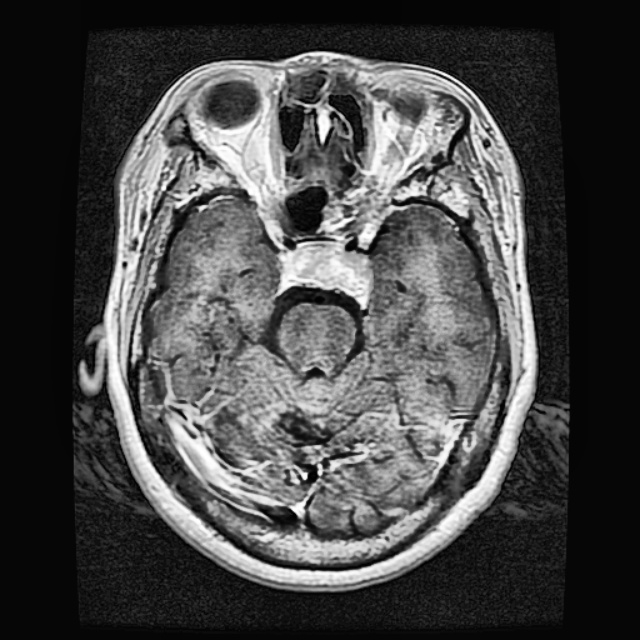Pituitary: (280, 240, 370, 298)
